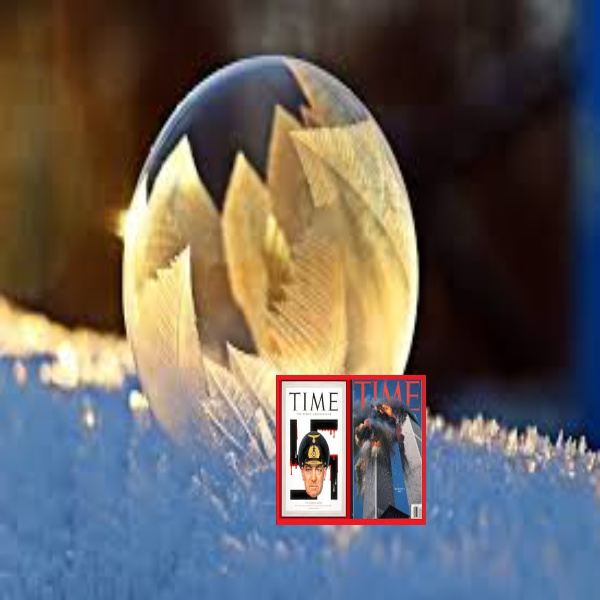time_cover: (354, 372, 428, 523), (271, 369, 341, 523)
